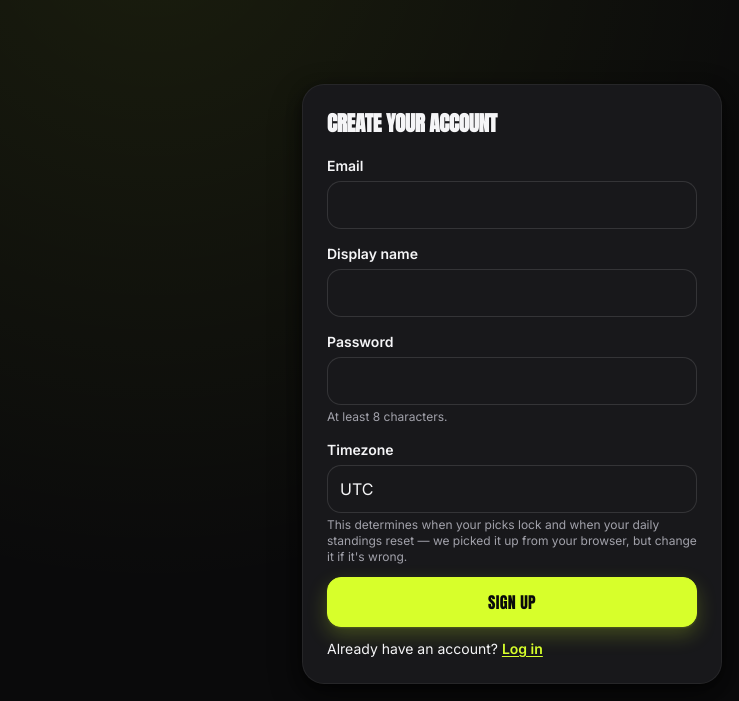
it: SignupScreen › falls back to the 'check your email' screen if auto-login fails after a successful signup
This screenshot has width=739, height=701.
Step 1. Type "a@example.com" into the field labelled "Email" → (512, 205), box left=327, top=181, right=697, bottom=229
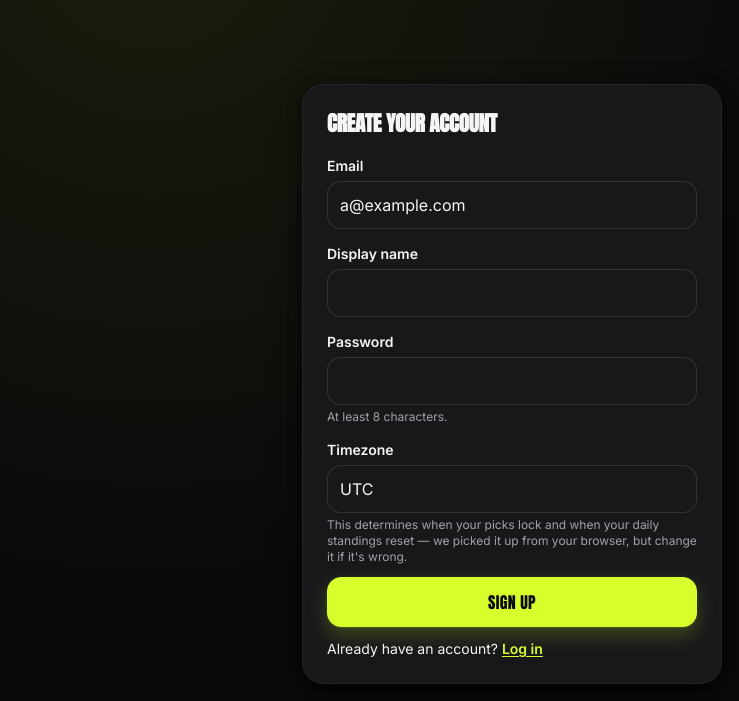
Step 2. Type "Test" into the field labelled "Display name" → (512, 293), box left=327, top=269, right=697, bottom=317
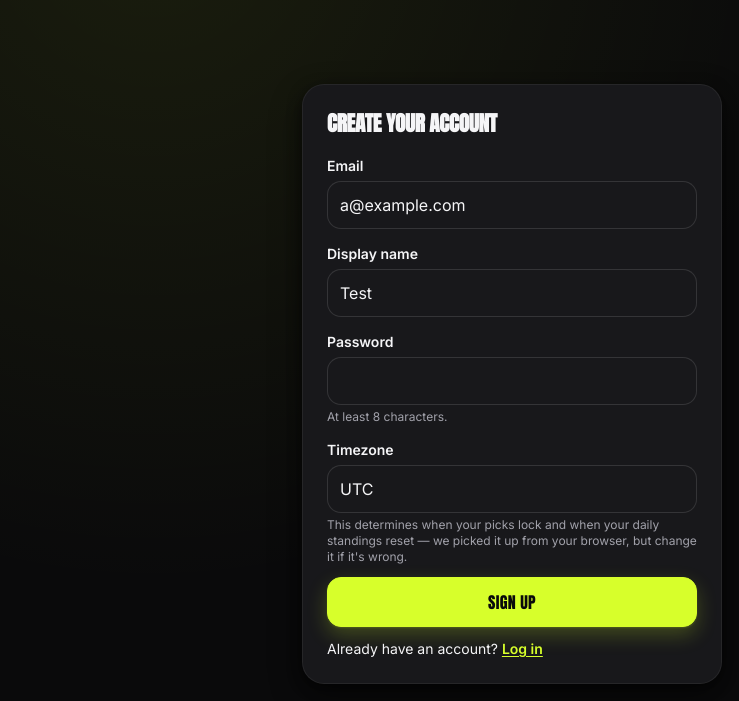
Step 3. Type "password123" into the password field labelled "Password" → (512, 381), box left=327, top=357, right=697, bottom=405
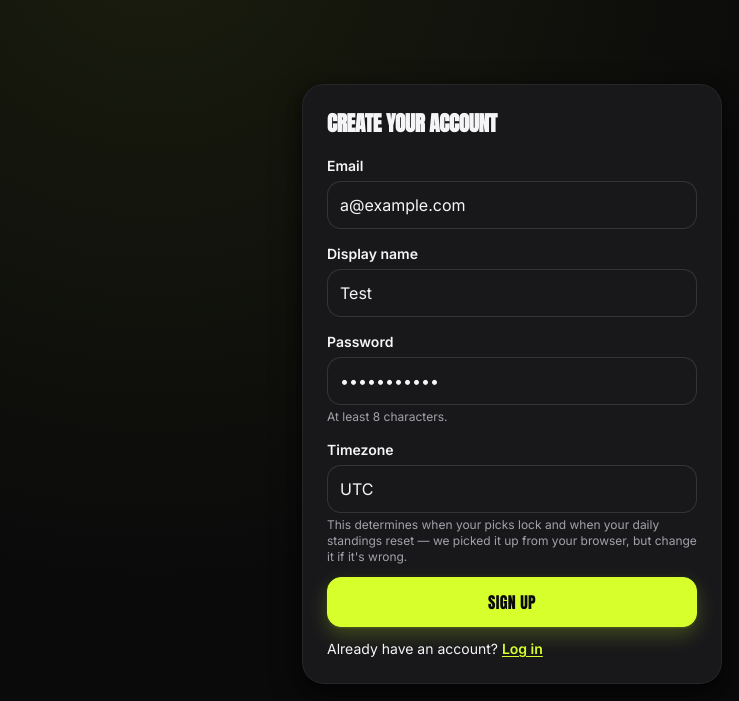
Step 4. Click the button "Sign up" → (512, 602), box left=327, top=577, right=697, bottom=627
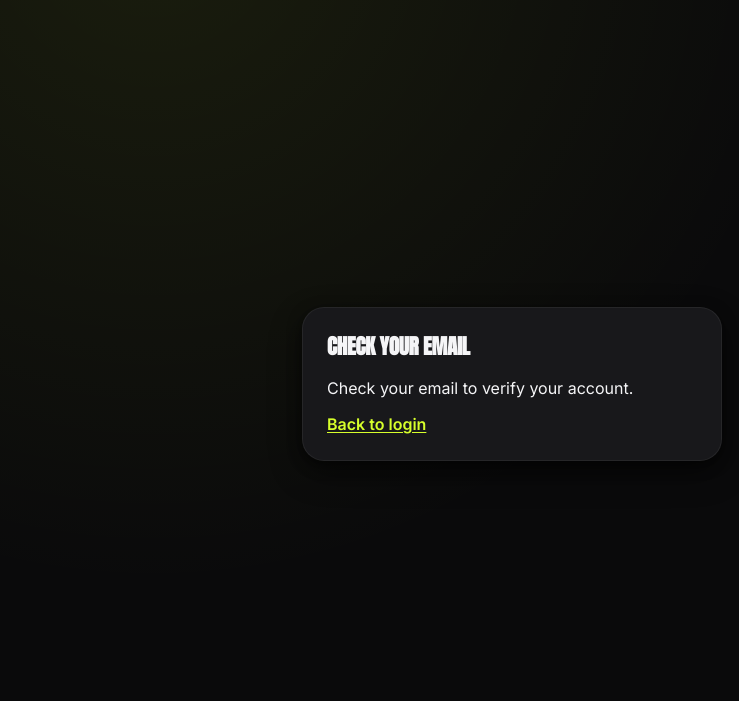
Expected: the text "Check your email to verify your account." is shown, left=327, top=378, right=633, bottom=398
Expected: the link "Back to login" is shown, left=327, top=414, right=426, bottom=434
